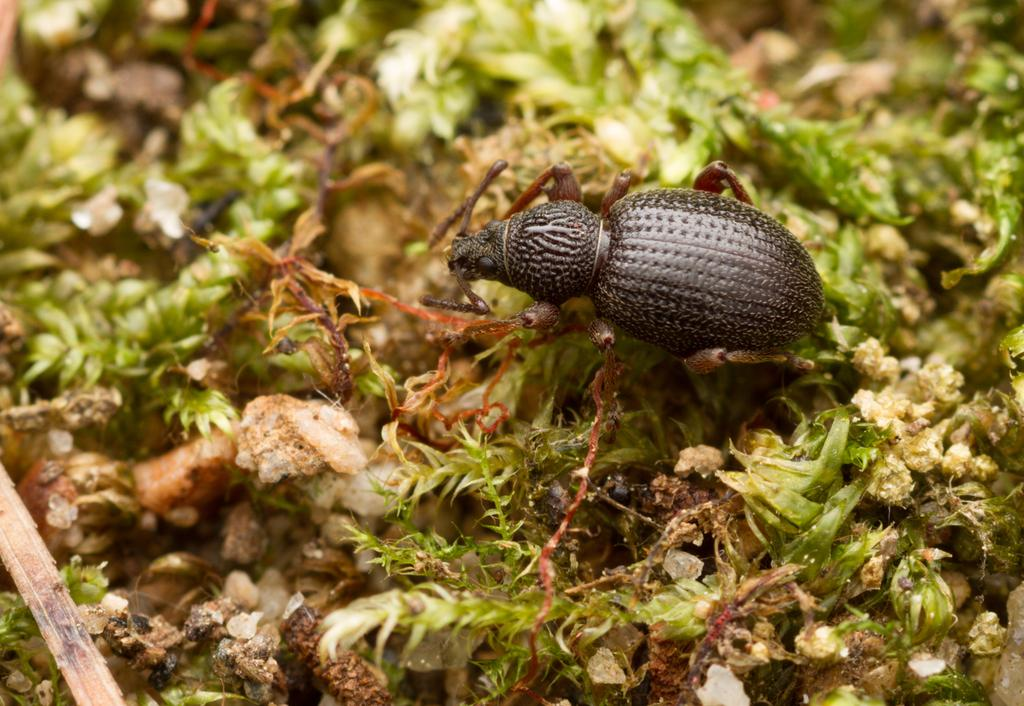weevils: (397, 130, 873, 428)
